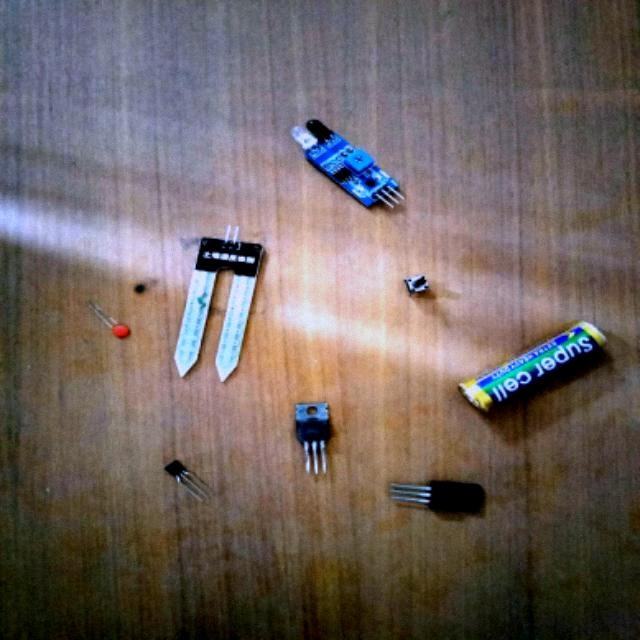capacitor: (112, 325, 131, 340)
